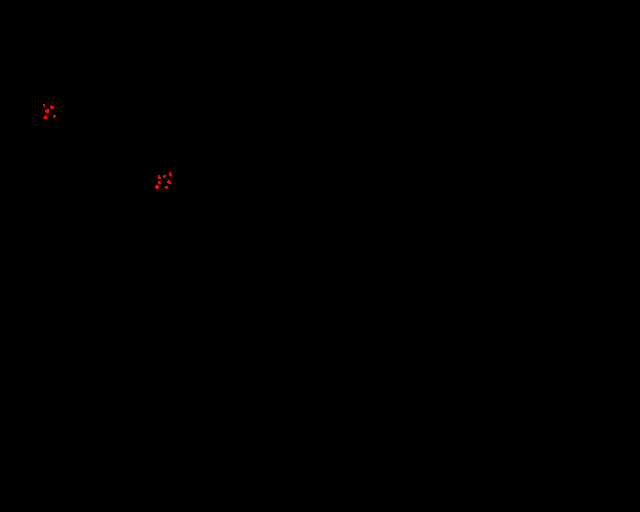Target: (43, 115, 48, 119), (50, 105, 54, 109), (45, 109, 49, 113), (167, 180, 171, 184), (155, 185, 159, 189), (169, 172, 172, 177), (158, 175, 161, 179), (53, 115, 56, 118), (163, 175, 166, 178), (158, 181, 161, 184), (165, 186, 168, 189), (43, 104, 45, 107)
